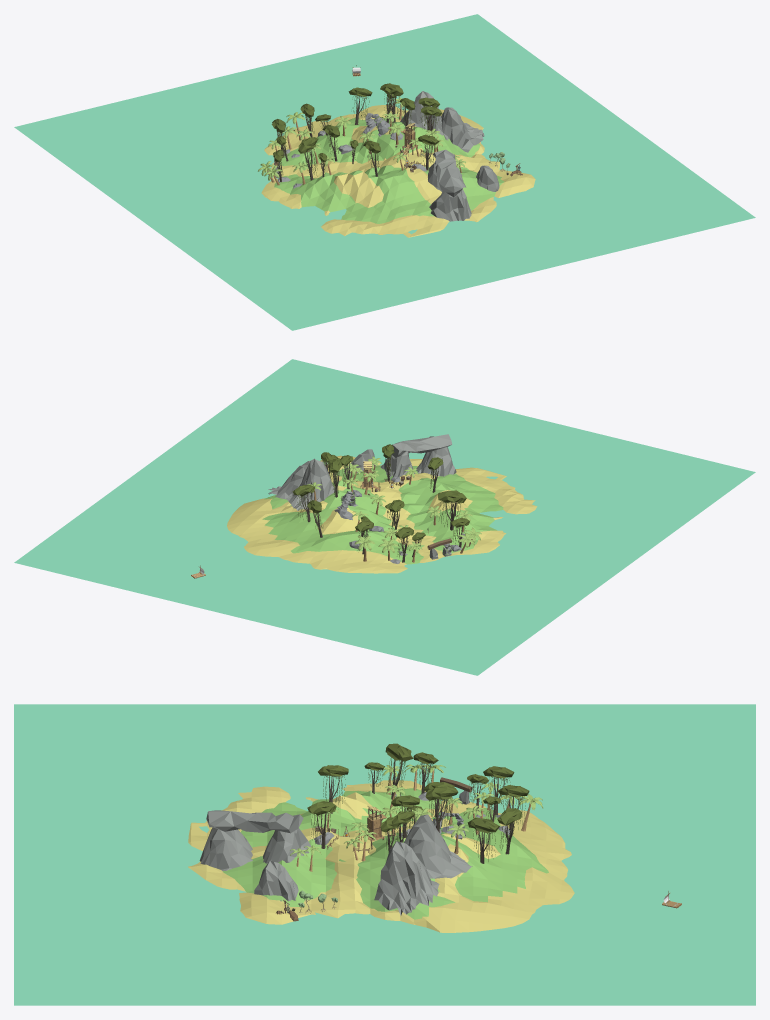
Rendered from village.glb.
The picture shows the model from 3 angles, top to bottom: view 1: azimuth 30°, elevation 25°; view 2: azimuth 150°, elevation 25°; view 3: azimuth 270°, elevation 25°; orthographic projection. The views are drawn at different scales.
Parts seen in each view (by area): view 1: Water, Landscape, Big_Rock_2, Big_Rock_2_2, Big_Rock_2_1; view 2: Water, Landscape, Big_Rock_2, Big_Rock_2_1, Big_Rock_2_2, Tree_6; view 3: Water, Landscape, Big_Rock_2, Big_Rock_2_2, Big_Rock_2_1, Big_Rock_2_3, Tree_2, Tree_3, Tree_6, Tree_9, Tree_13, Tree (+2 smaller).
Part boxes in pixels (x1=…): Water: x1=14, y1=14, x2=755, y2=330; Landscape: x1=261, y1=105, x2=535, y2=237; Big_Rock_2: x1=428, y1=149, x2=471, y2=221; Big_Rock_2_2: x1=441, y1=107, x2=484, y2=152; Big_Rock_2_1: x1=400, y1=91, x2=448, y2=140; Water: x1=14, y1=359, x2=755, y2=675; Landscape: x1=227, y1=455, x2=537, y2=573; Big_Rock_2: x1=380, y1=434, x2=456, y2=477; Big_Rock_2_1: x1=287, y1=458, x2=335, y2=510; Big_Rock_2_2: x1=268, y1=461, x2=309, y2=499; Tree_6: x1=438, y1=490, x2=466, y2=530; Water: x1=14, y1=704, x2=755, y2=1005; Landscape: x1=188, y1=780, x2=574, y2=932; Big_Rock_2: x1=199, y1=810, x2=310, y2=871; Big_Rock_2_2: x1=374, y1=841, x2=439, y2=915; Big_Rock_2_1: x1=404, y1=814, x2=472, y2=878; Big_Rock_2_3: x1=254, y1=861, x2=298, y2=901; Tree_2: x1=467, y1=817, x2=499, y2=863; Tree_3: x1=425, y1=785, x2=458, y2=832; Tree_6: x1=385, y1=743, x2=413, y2=799; Tree_9: x1=307, y1=801, x2=336, y2=848; Tree_13: x1=318, y1=765, x2=348, y2=813; Tree: x1=497, y1=808, x2=521, y2=854.
Bounding box in the file's own units: 9.7 × 1.86 × 10.09.
1 material, 1 textured.
